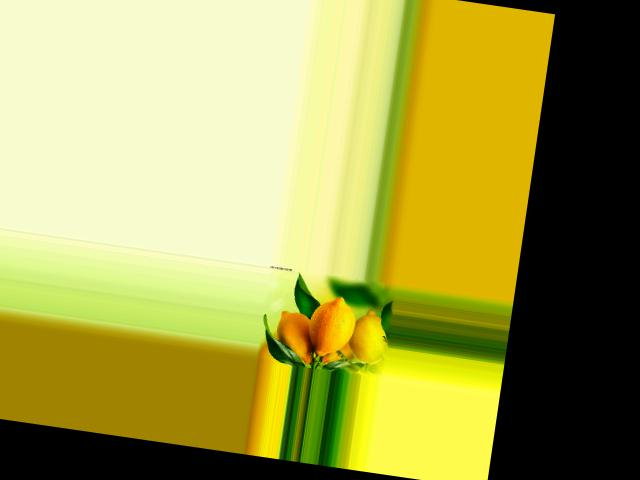lemon: (347, 304, 389, 369)
